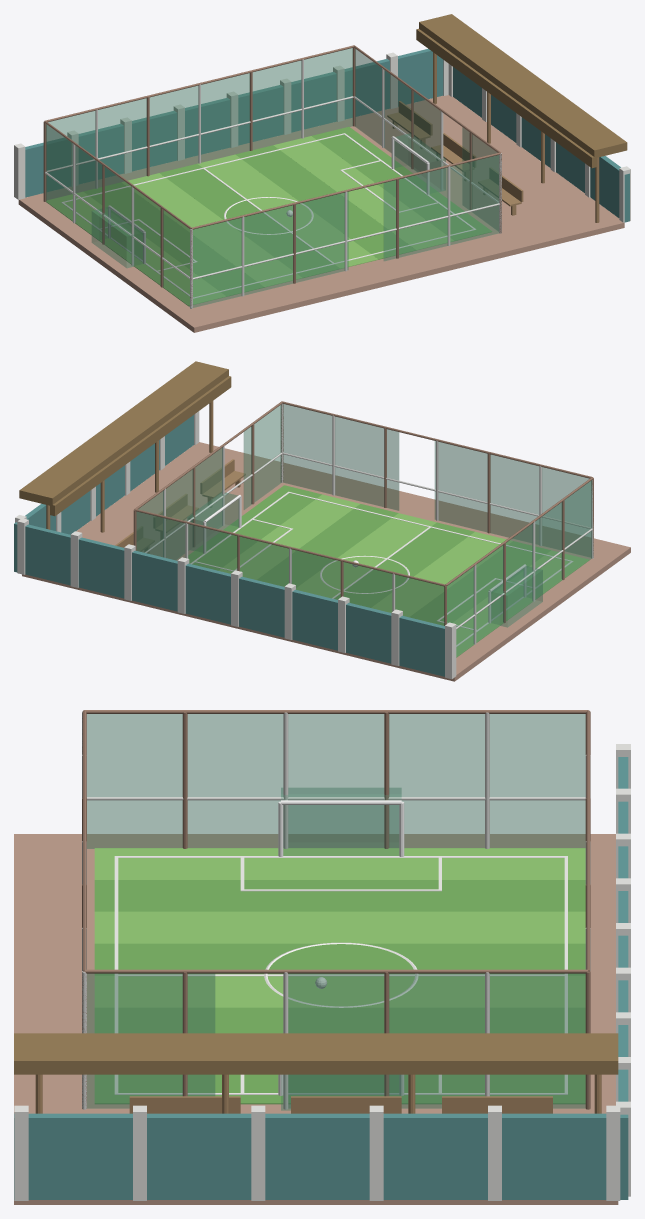
The model's file is play-chill.glb.
The picture shows the model from 3 angles, top to bottom: view 1: azimuth 30°, elevation 25°; view 2: azimuth 150°, elevation 25°; view 3: azimuth 270°, elevation 25°; orthographic projection. The views are drawn at different scales.
Visible parts, largest first — view 1: Net, Concrete, WallTeal, TurfDark, TurfLight, Thatch, RustPipe, Pipe, Pillar, BenchWood, Line, Goal; view 2: Net, WallTeal, Concrete, TurfLight, TurfDark, Thatch, Pillar, RustPipe, Pipe, BenchWood, Line, Goal; view 3: Net, TurfDark, WallTeal, TurfLight, Concrete, Thatch, Pillar, RustPipe, BenchWood, Line, Pipe, Goal.
Boxes of the visible parts, x1=… form: Net: x1=46, y1=48, x2=498, y2=307; Concrete: x1=18, y1=95, x2=624, y2=332; WallTeal: x1=25, y1=48, x2=629, y2=222; TurfDark: x1=84, y1=126, x2=491, y2=296; TurfLight: x1=46, y1=136, x2=453, y2=305; Thatch: x1=416, y1=14, x2=627, y2=168; RustPipe: x1=43, y1=45, x2=501, y2=308; Pipe: x1=45, y1=59, x2=501, y2=308; Pillar: x1=14, y1=52, x2=630, y2=222; BenchWood: x1=387, y1=52, x2=599, y2=222; Line: x1=61, y1=133, x2=475, y2=298; Goal: x1=108, y1=136, x2=429, y2=264; Net: x1=136, y1=404, x2=591, y2=657; WallTeal: x1=14, y1=415, x2=444, y2=676; Concrete: x1=22, y1=442, x2=630, y2=681; TurfLight: x1=218, y1=494, x2=589, y2=657; TurfDark: x1=188, y1=485, x2=550, y2=625; Thatch: x1=19, y1=361, x2=231, y2=516; Pillar: x1=15, y1=411, x2=456, y2=679; RustPipe: x1=133, y1=401, x2=593, y2=625; Pipe: x1=145, y1=403, x2=593, y2=644; BenchWood: x1=46, y1=401, x2=245, y2=553; Line: x1=190, y1=491, x2=573, y2=646; Goal: x1=203, y1=494, x2=526, y2=623; Net: x1=87, y1=714, x2=585, y2=1110; TurfDark: x1=94, y1=880, x2=585, y2=1104; WallTeal: x1=14, y1=757, x2=628, y2=1199; TurfLight: x1=94, y1=848, x2=585, y2=1007; Concrete: x1=14, y1=834, x2=618, y2=1204; Thatch: x1=14, y1=1033, x2=618, y2=1074; Pillar: x1=14, y1=744, x2=630, y2=1200; RustPipe: x1=82, y1=710, x2=590, y2=1109; BenchWood: x1=35, y1=1074, x2=601, y2=1113; Line: x1=114, y1=856, x2=567, y2=1094; Pipe: x1=82, y1=711, x2=590, y2=1109; Goal: x1=278, y1=800, x2=404, y2=1095.
Bounding box in the file's own units: 17.29 × 3.24 × 12.25.
